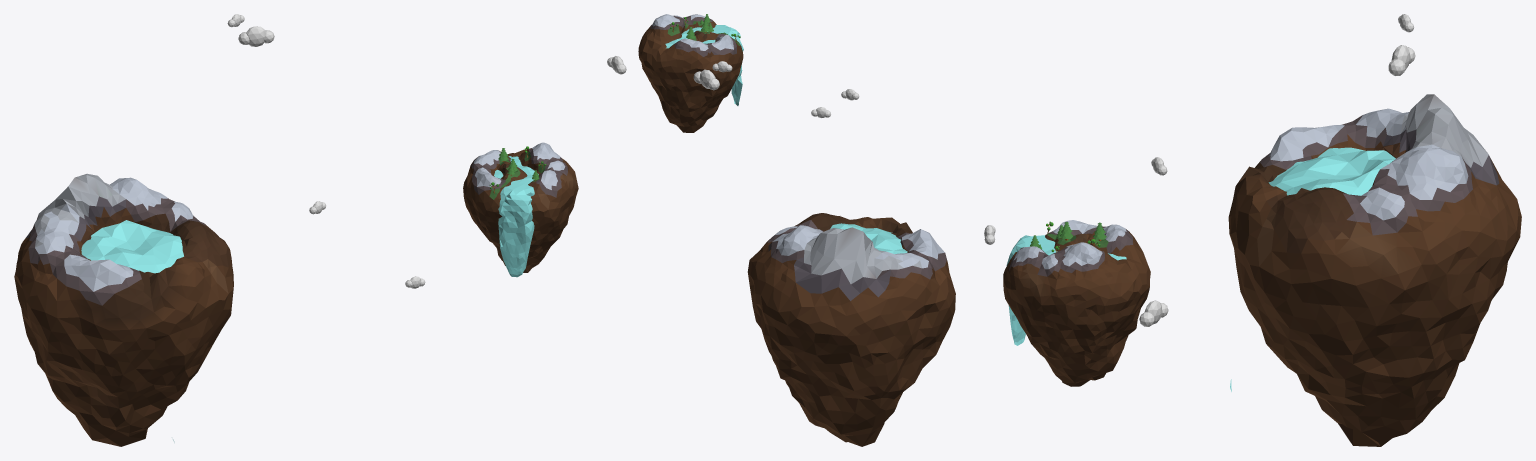
Rendered from world.gltf.
3 renders of one model, left to right at view 1: azimuth 30°, elevation 25°; view 2: azimuth 150°, elevation 25°; view 3: azimuth 270°, elevation 25°, orthographic. The views are drawn at different scales.
Visible parts, largest first — view 1: Planet_2, Planet_1, Jezero_1, Jezero_2, oblaci; view 2: Planet_2, Planet_1, oblaci, Jezero_1, Jezero_2; view 3: Planet_2, Planet_1, Jezero_1, oblaci, Jezero_2.
Part boxes in pixels (x1,y1,x2,y2): Planet_2: [14, 173, 233, 446]; Planet_1: [463, 142, 578, 272]; Jezero_1: [81, 220, 183, 442]; Jezero_2: [494, 156, 538, 277]; oblaci: [227, 14, 425, 288]; Planet_2: [747, 213, 955, 446]; Planet_1: [638, 14, 743, 132]; oblaci: [607, 56, 859, 117]; Jezero_1: [830, 223, 907, 254]; Jezero_2: [665, 25, 743, 105]; Planet_2: [1228, 94, 1521, 446]; Planet_1: [1003, 220, 1150, 386]; Jezero_1: [1230, 147, 1395, 391]; oblaci: [984, 14, 1415, 326]; Jezero_2: [1006, 235, 1126, 345].
Bounding box in the file's own units: 570 × 471 × 452.
